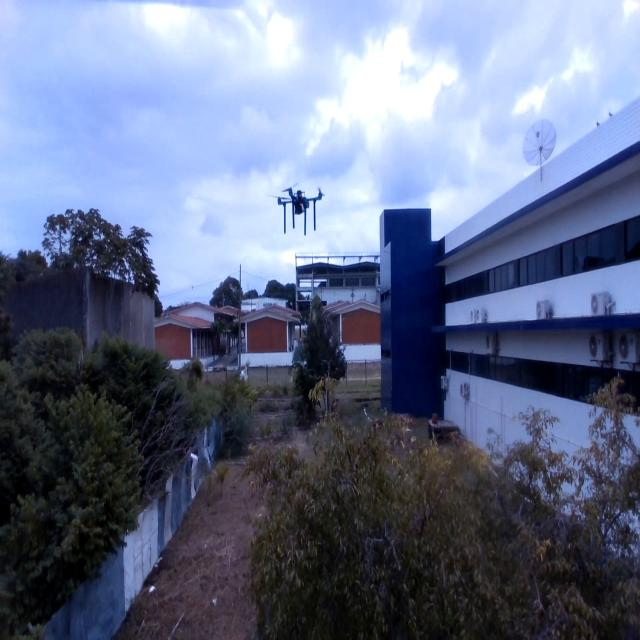-uav-: (264, 182, 332, 249)
